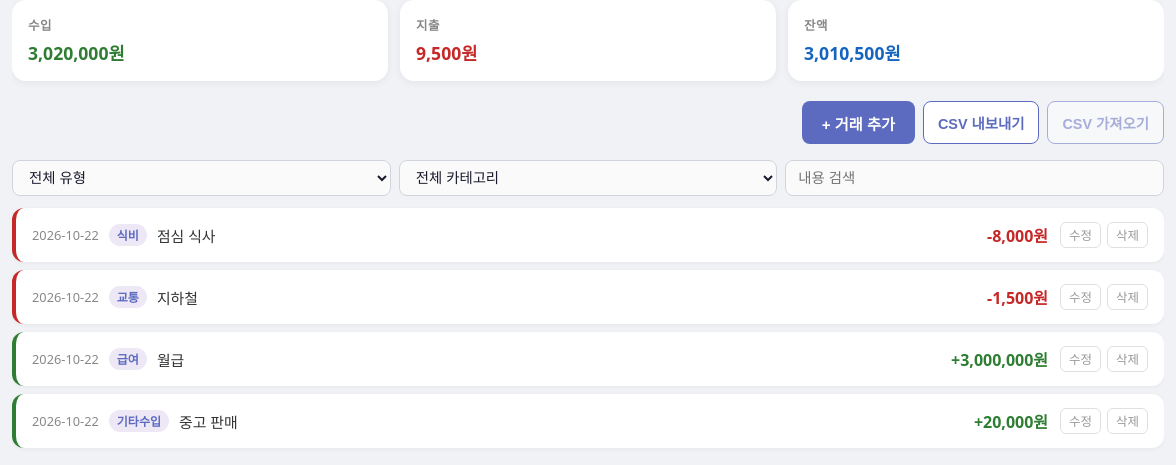
유형 필터로 목록이 줄어든다
The image size is (1176, 465).
Select "수입" in the dropdown named "유형 필터" at (201, 178), box [12,160,391,196]
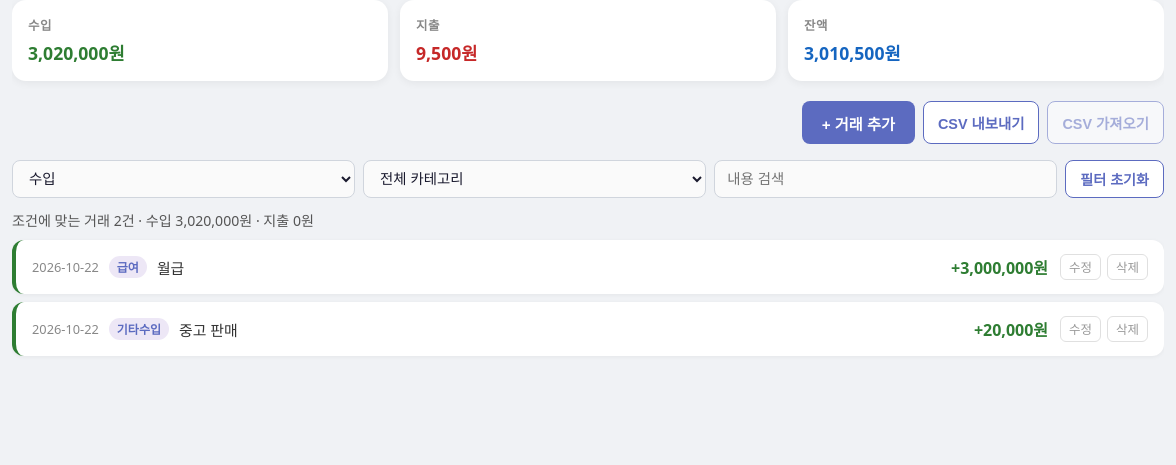
Expected: the text "월급" is shown, [157,256,184,278]
Expected: the text "지하철" is gone
